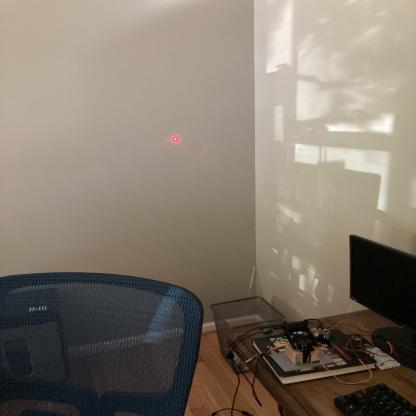target: (168, 133, 182, 142)
